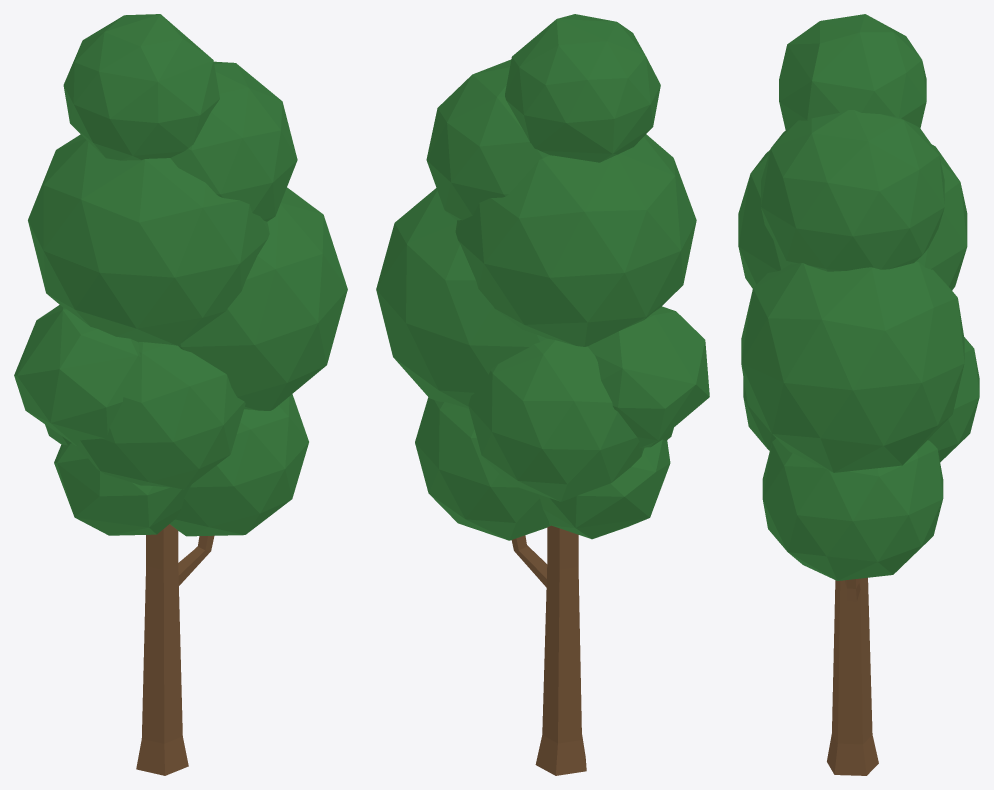
File: tree-oak.glb
3 views of the same model, side by side, from view 1: azimuth 30°, elevation 25°; view 2: azimuth 150°, elevation 25°; view 3: azimuth 270°, elevation 25° (orthographic).
Parts seen in each view (by area): view 1: tree-oak; view 2: tree-oak; view 3: tree-oak.
Part boxes in pixels (box(x1,y1,x2,y2)): tree-oak: box(14, 14, 347, 775); tree-oak: box(376, 14, 709, 775); tree-oak: box(738, 14, 979, 775).
Bounding box in the file's own units: 3.23 × 7.45 × 2.21.
Materials: 1 (1 with a texture image).
